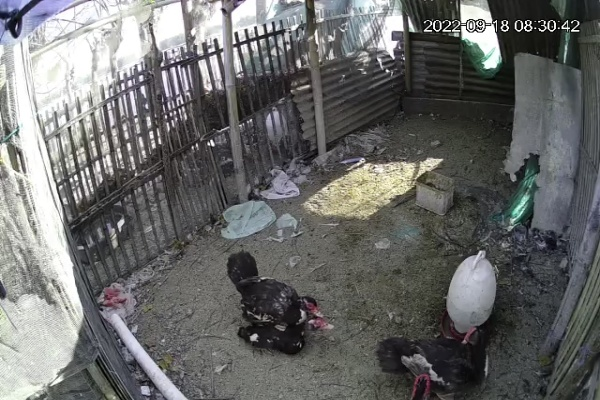Kawin: (224, 245, 336, 359)
